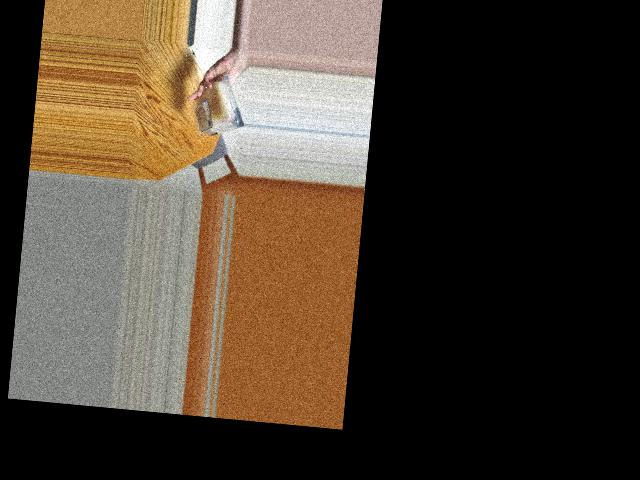cheese: (191, 78, 243, 138)
